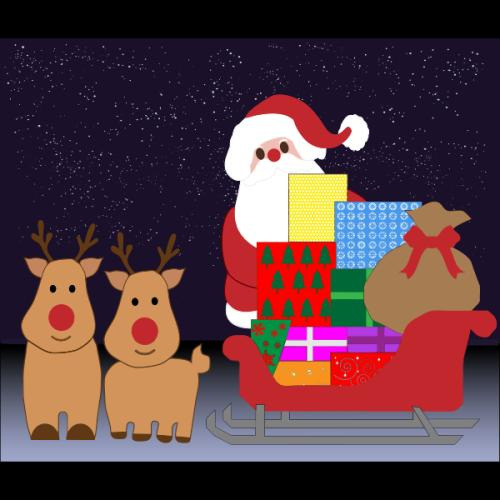Santa: (222, 92, 368, 330)
